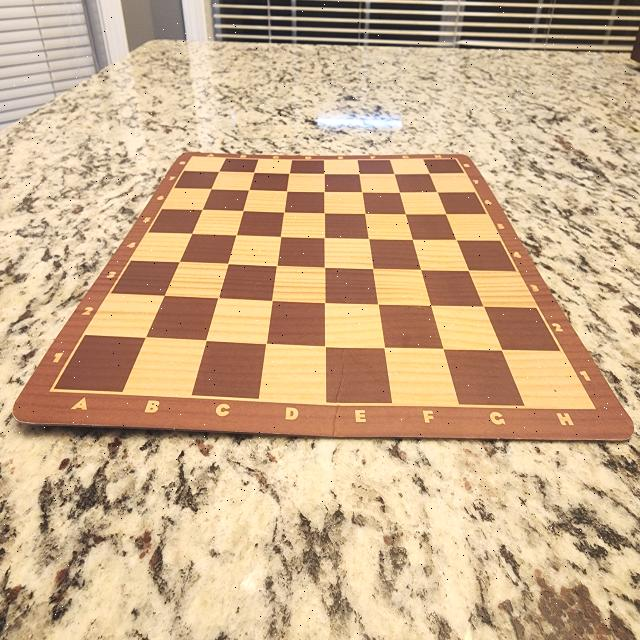Bottom-Left: (56, 337, 145, 392)
Bottom-Right: (502, 349, 596, 408)
Top-Left: (185, 155, 224, 171)
Top-Right: (423, 158, 464, 174)
